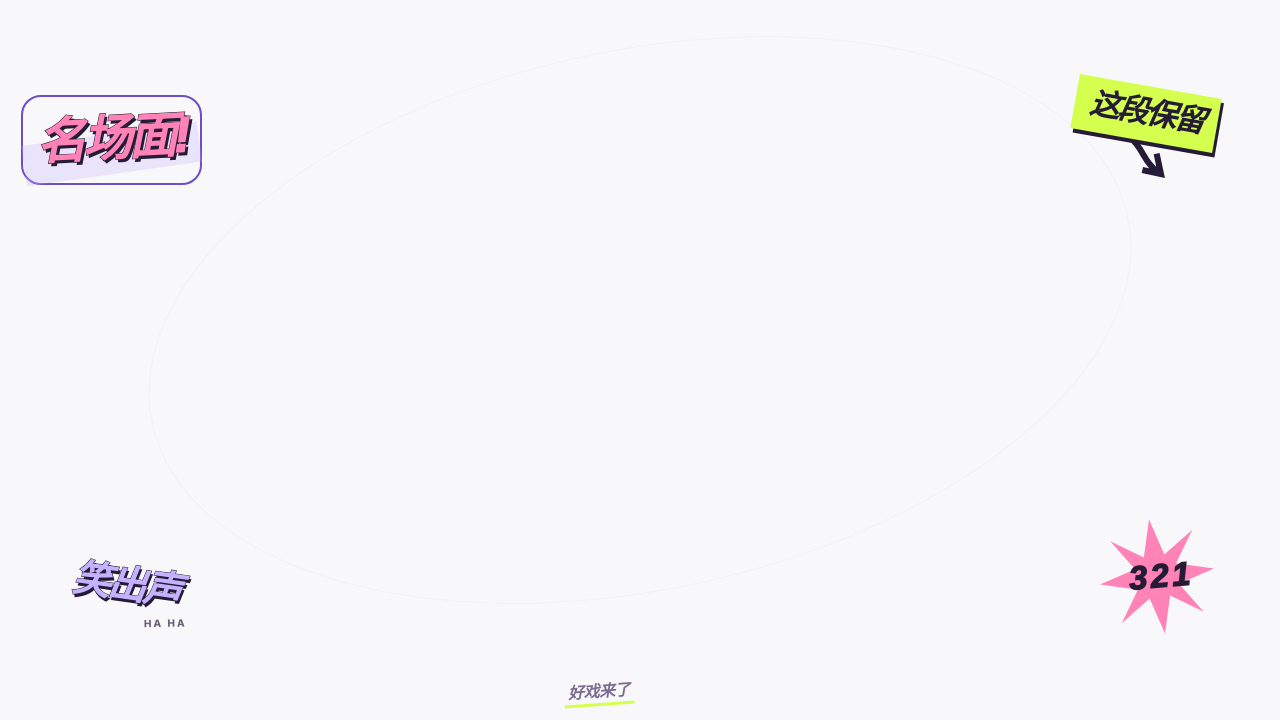
Test case: interactive backdrop › changes a sticker only on its own button and keeps it a non-submitting native control
Click the button with aria-label "名场面字贴，点按换一句" at (111, 140), box [27, 101, 196, 179]
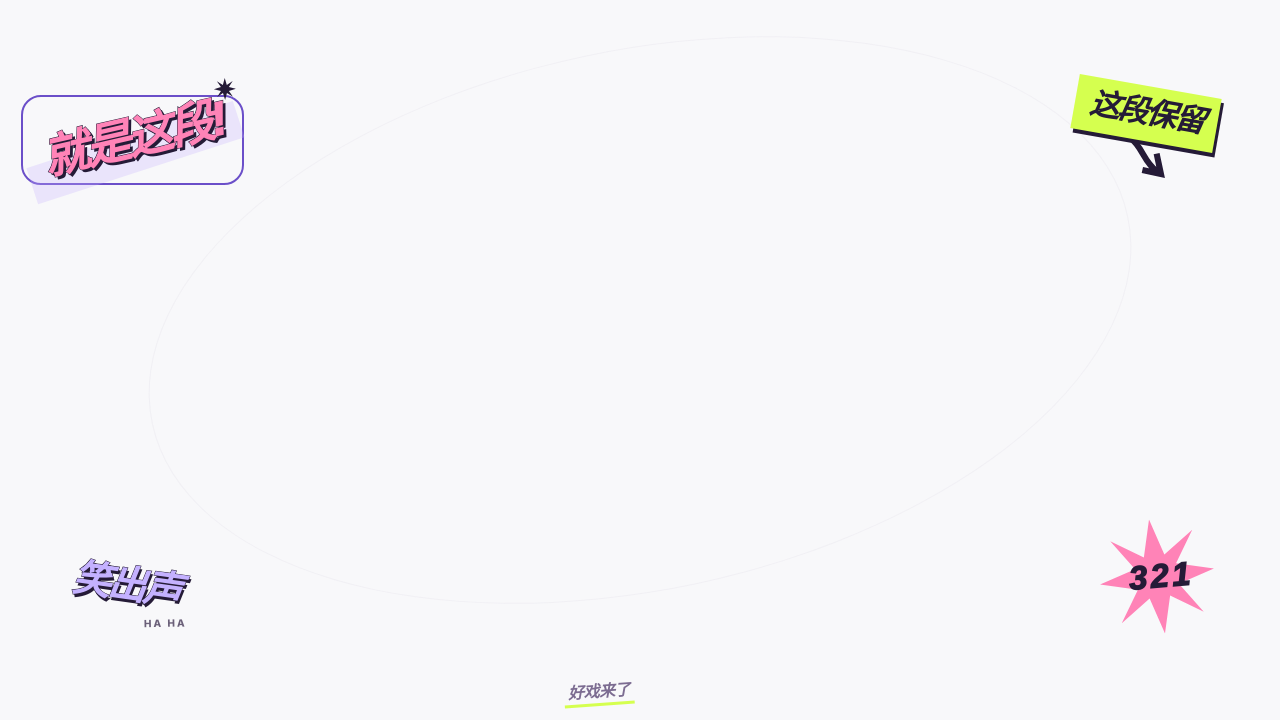
Expected: the button with aria-label "笑出声字贴，点按换一句" reads "笑出声", [58, 550, 193, 619]
Expected: the button with aria-label "名场面字贴，点按换一句" reads "就是这段!"
Click the button with aria-label "名场面字贴，点按换一句" at (133, 140), box [27, 101, 238, 179]
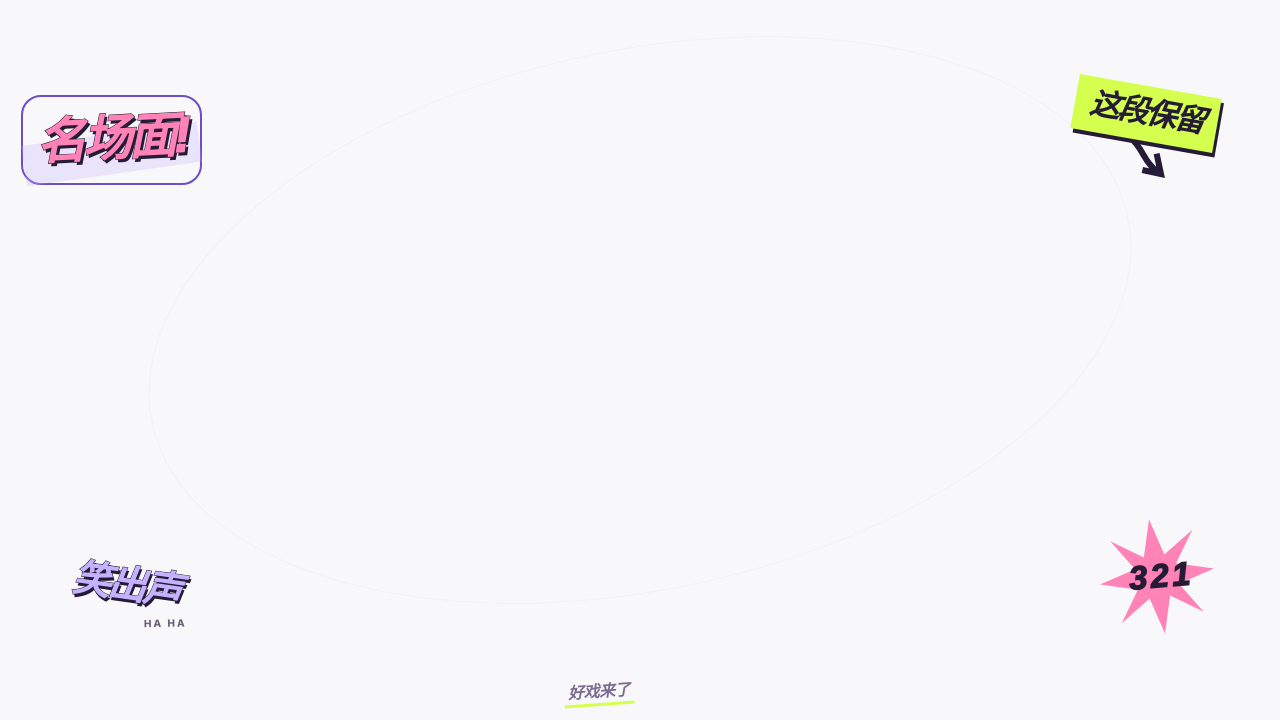
Expected: the button with aria-label "名场面字贴，点按换一句" reads "名场面!", [27, 101, 196, 179]
